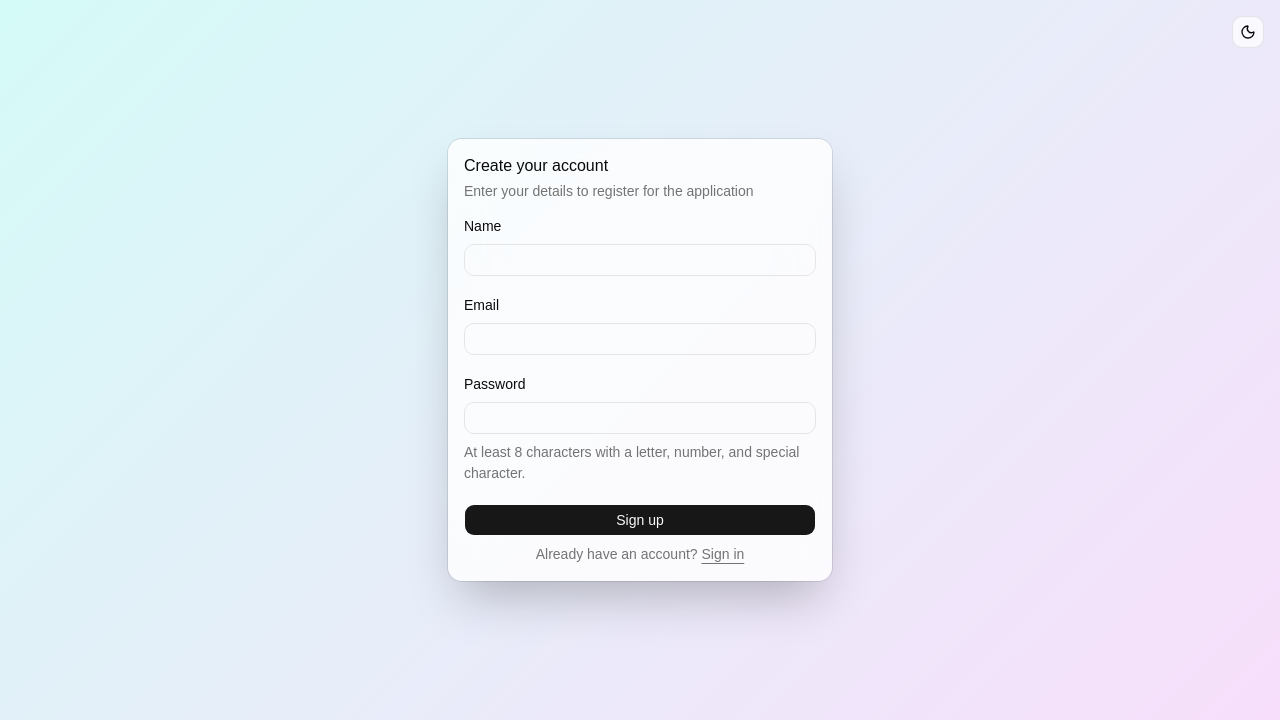
SignUpPage › shows password validation errors
Expected: the heading "Create your account" is shown, x1=464 y1=157 x2=608 y2=174
Type "Jane" into the field labelled "Name". click: point(640, 260)
box: x1=464 y1=244 x2=816 y2=276
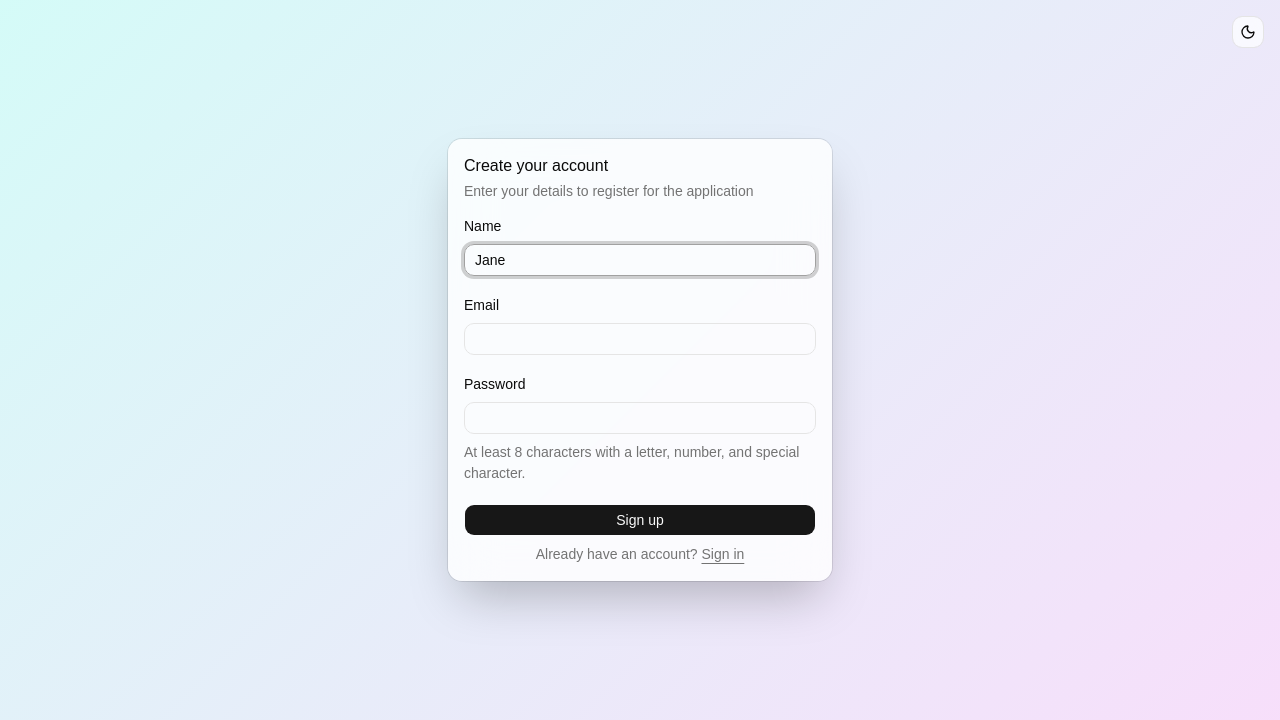
Type "user@example.com" into the field labelled "Email". click: point(640, 339)
box: x1=464 y1=323 x2=816 y2=355
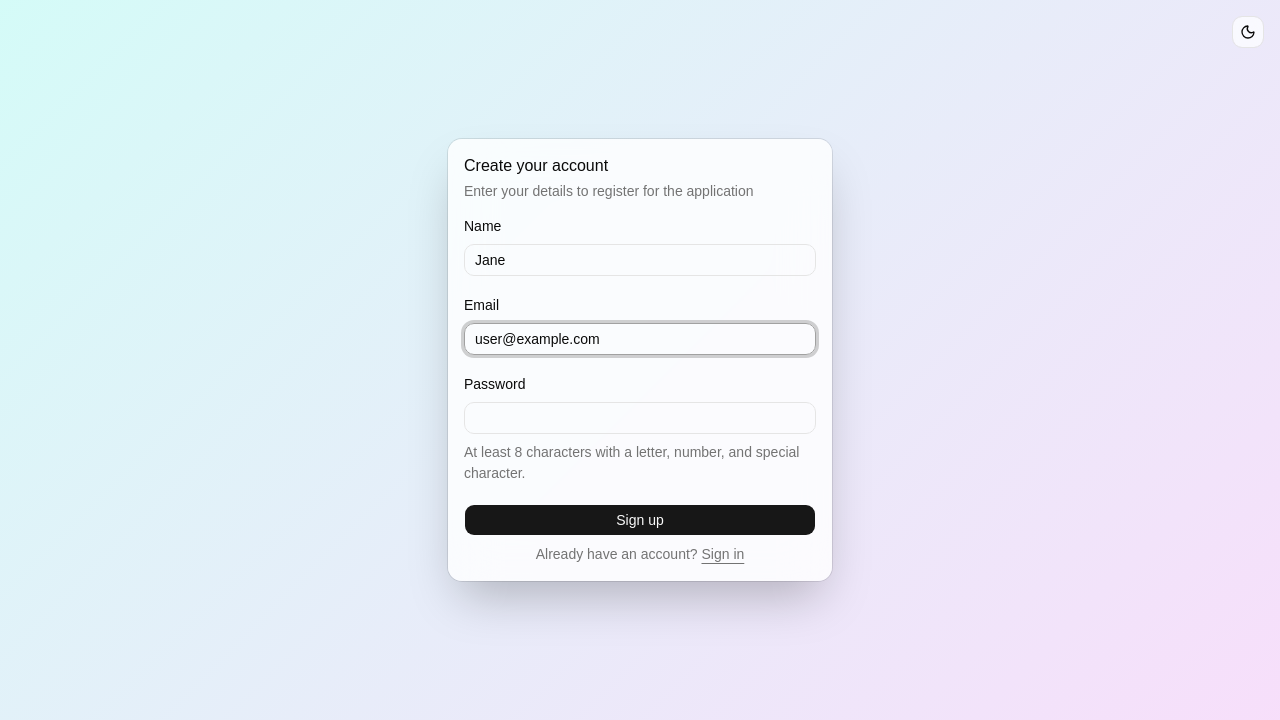
Type "short" into the password field labelled "Password". click: point(640, 418)
box: x1=464 y1=402 x2=816 y2=434
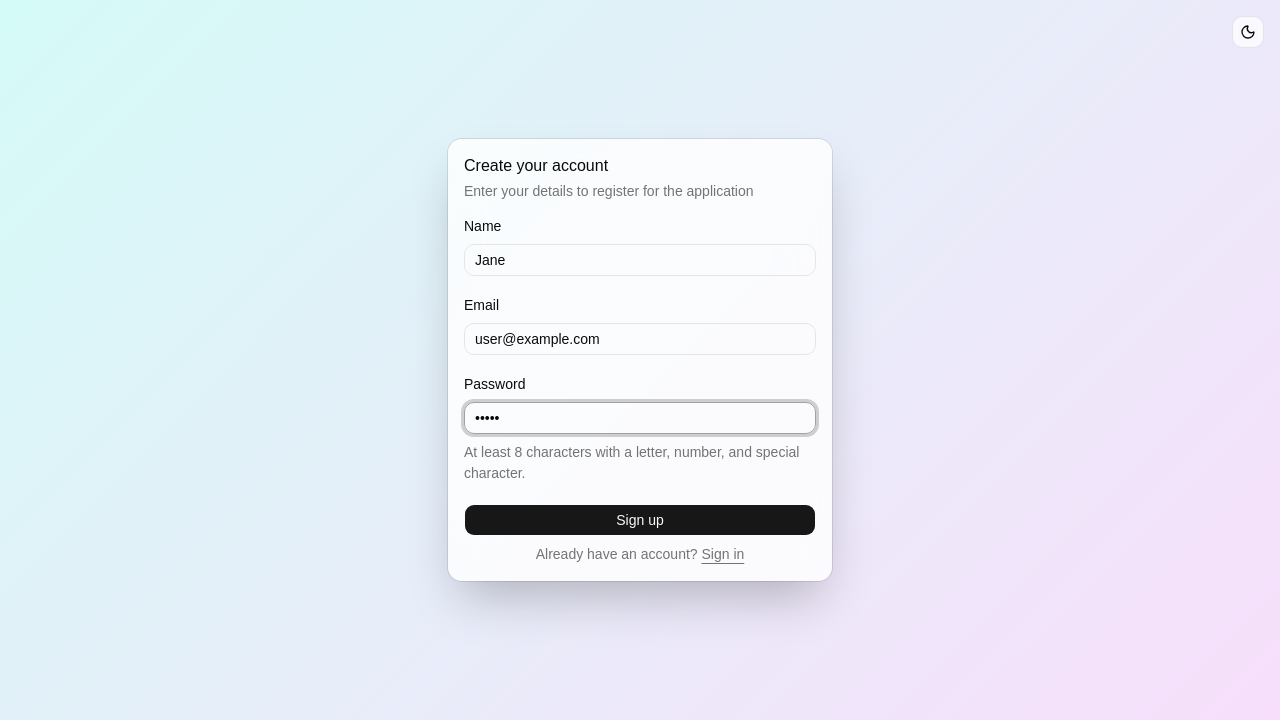
Click the button "Sign up". click: point(640, 520)
box: x1=464 y1=504 x2=816 y2=536
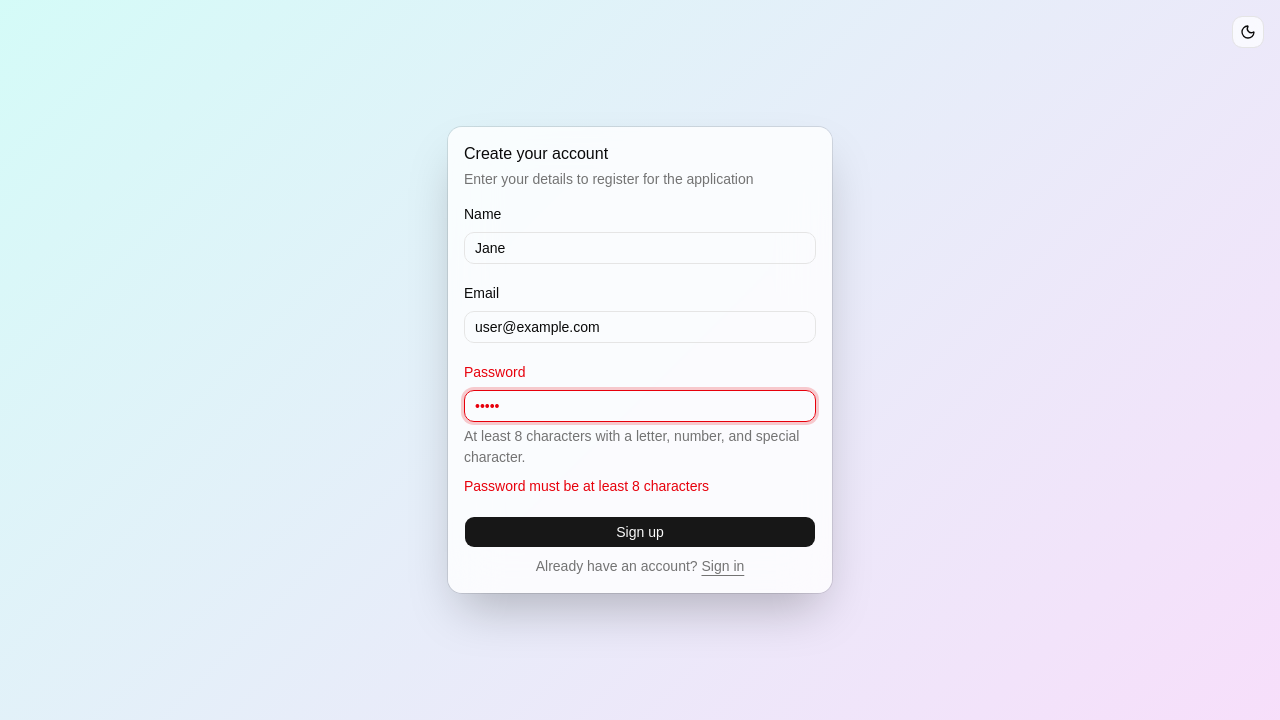
Expected: the text "Password must be at least 8 characters" is shown, x1=464 y1=478 x2=709 y2=494
